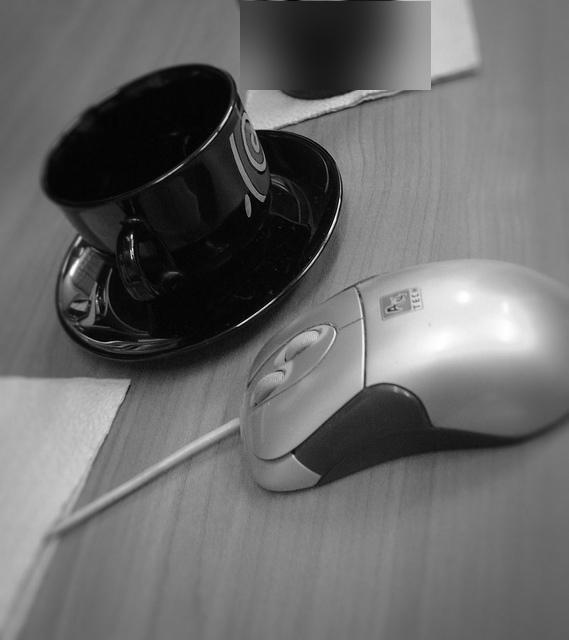cup-handle: (39, 65, 275, 312)
